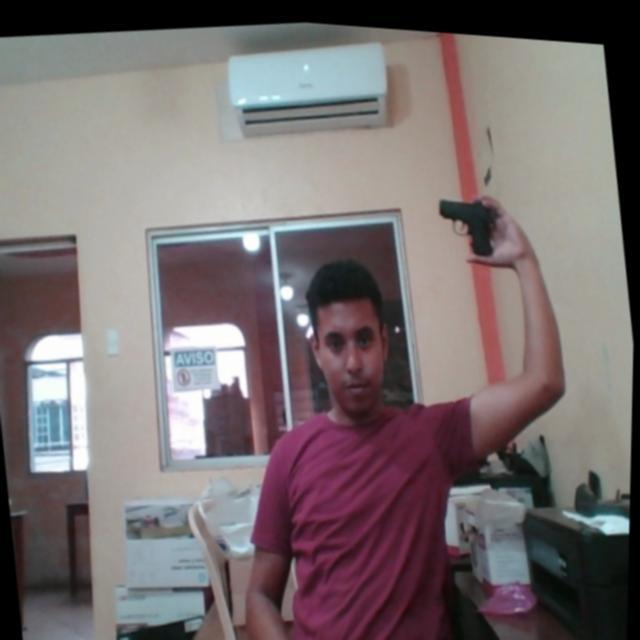weapon: (436, 182, 504, 255)
